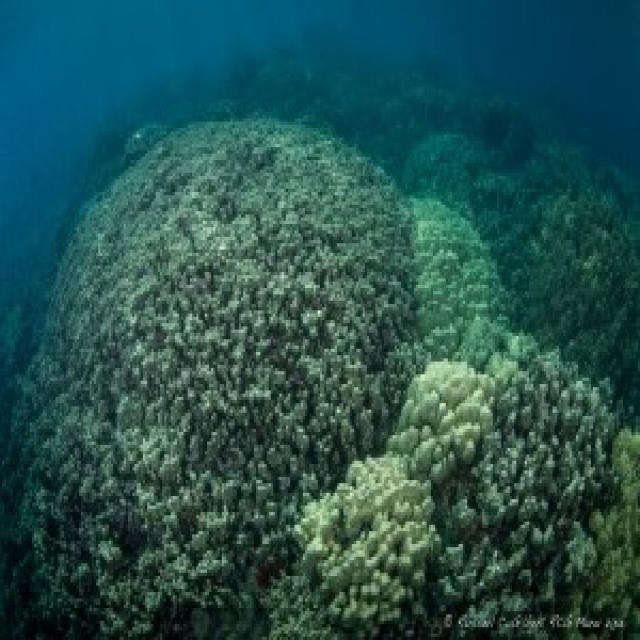Healthy: (33, 119, 426, 638), (406, 135, 639, 414), (447, 356, 611, 606), (302, 455, 440, 638), (411, 199, 507, 363), (389, 363, 494, 507)
